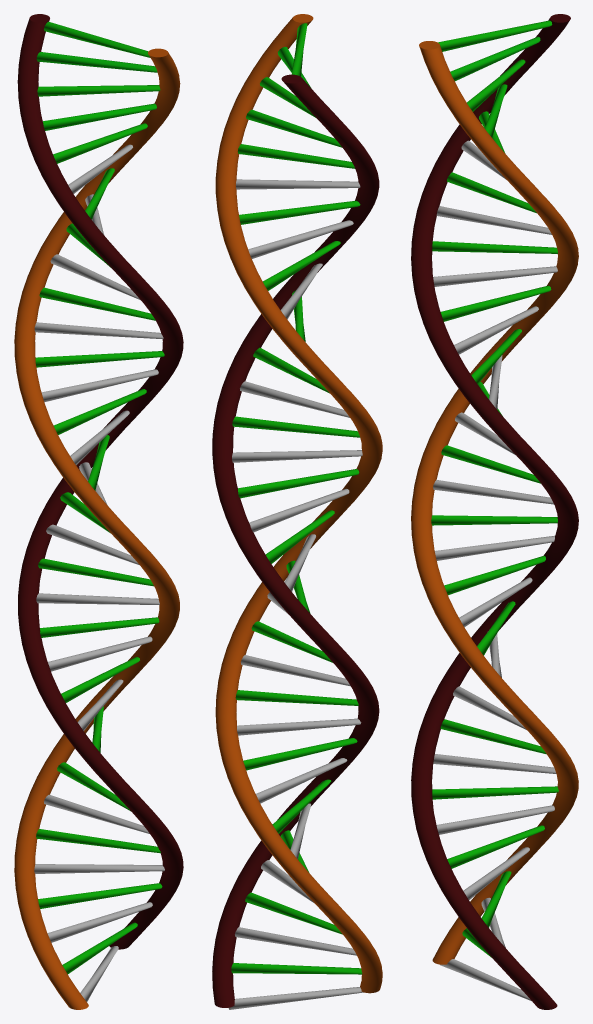
Rendered from dna.obj.
3 views of the same model, side by side, from view 1: azimuth 30°, elevation 25°; view 2: azimuth 150°, elevation 25°; view 3: azimuth 270°, elevation 25° (orthographic).
Visible parts, largest first — view 1: Cylinder_1_1, Cylinder_0, Cylinder_31, Cylinder_1_12, Cylinder_11, Cylinder_1_30, Cylinder_1_32, Cylinder_21, Cylinder_1_2, Cylinder_1, Cylinder_1_22, Cylinder_13 (+21 smaller); view 2: Cylinder_1_1, Cylinder_0, Cylinder_1_34, Cylinder_15, Cylinder_35, Cylinder_1_14, Cylinder_5, Cylinder_1_16, Cylinder_25, Cylinder_33, Cylinder_1_24, Cylinder_1_6 (+20 smaller); view 3: Cylinder_0, Cylinder_1_1, Cylinder_1_18, Cylinder_1_28, Cylinder_1_8, Cylinder_9, Cylinder_27, Cylinder_17, Cylinder_19, Cylinder_29, Cylinder_7, Cylinder_1_0 (+19 smaller).
Boxes of the visible parts, x1=… form: Cylinder_1_1: x1=14, y1=48, x2=180, y2=1009; Cylinder_0: x1=17, y1=14, x2=183, y2=949; Cylinder_31: x1=34, y1=864, x2=164, y2=873; Cylinder_1_12: x1=35, y1=351, x2=164, y2=367; Cylinder_11: x1=34, y1=322, x2=163, y2=339; Cylinder_1_30: x1=36, y1=829, x2=160, y2=853; Cylinder_1_32: x1=38, y1=883, x2=162, y2=908; Cylinder_21: x1=36, y1=593, x2=159, y2=604; Cylinder_1_2: x1=37, y1=85, x2=160, y2=96; Cylinder_1: x1=36, y1=52, x2=157, y2=72; Cylinder_1_22: x1=40, y1=617, x2=159, y2=637; Cylinder_13: x1=41, y1=369, x2=158, y2=402; Cylinder_1_1: x1=215, y1=14, x2=382, y2=993; Cylinder_0: x1=212, y1=74, x2=379, y2=1007; Cylinder_1_34: x1=231, y1=963, x2=362, y2=974; Cylinder_15: x1=232, y1=450, x2=362, y2=462; Cylinder_35: x1=228, y1=987, x2=363, y2=1009; Cylinder_1_14: x1=232, y1=416, x2=360, y2=437; Cylinder_5: x1=236, y1=179, x2=360, y2=189; Cylinder_1_16: x1=238, y1=469, x2=359, y2=498; Cylinder_25: x1=237, y1=718, x2=361, y2=735; Cylinder_33: x1=235, y1=927, x2=356, y2=955; Cylinder_1_24: x1=235, y1=690, x2=358, y2=705; Cylinder_1_6: x1=239, y1=200, x2=360, y2=224; Cylinder_0: x1=411, y1=14, x2=578, y2=1009; Cylinder_1_1: x1=411, y1=41, x2=578, y2=964; Cylinder_1_18: x1=431, y1=515, x2=557, y2=525; Cylinder_1_28: x1=432, y1=786, x2=558, y2=799; Cylinder_1_8: x1=432, y1=241, x2=557, y2=253; Cylinder_9: x1=433, y1=266, x2=557, y2=286; Cylinder_27: x1=433, y1=754, x2=556, y2=773; Cylinder_17: x1=433, y1=480, x2=553, y2=504; Cylinder_19: x1=434, y1=535, x2=554, y2=560; Cylinder_29: x1=436, y1=805, x2=554, y2=834; Cylinder_7: x1=436, y1=206, x2=551, y2=234; Cylinder_1_0: x1=438, y1=20, x2=552, y2=51.
Size of the model in its own units: 1.2 by 7.37 by 1.17.
